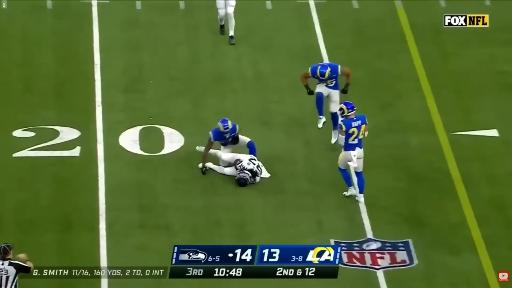Helmet: (339, 101, 357, 117), (218, 118, 232, 133), (236, 171, 250, 186), (317, 64, 330, 78)
Jersey: (340, 115, 367, 151), (309, 63, 342, 89), (236, 156, 262, 183), (210, 124, 238, 146)
Player: (301, 63, 351, 143), (339, 102, 367, 202), (202, 118, 256, 164), (206, 150, 270, 186), (216, 0, 235, 44)
